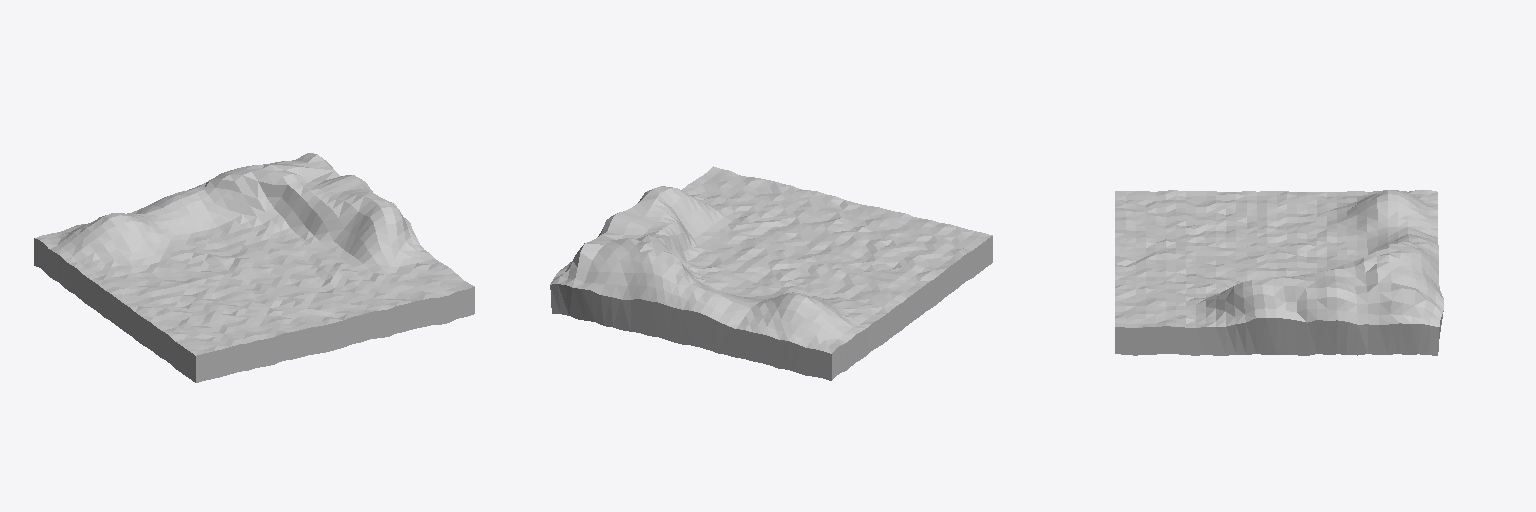
Rendered from floor.obj.
3 views of the same model, side by side, from view 1: azimuth 30°, elevation 25°; view 2: azimuth 150°, elevation 25°; view 3: azimuth 270°, elevation 25° (orthographic).
Parts seen in each view (by area): view 1: Plane_Plane.001; view 2: Plane_Plane.001; view 3: Plane_Plane.001.
Boxes of the visible parts, x1,y1,x2,y2 form: Plane_Plane.001: [34, 153, 474, 382]; Plane_Plane.001: [550, 166, 992, 380]; Plane_Plane.001: [1115, 190, 1443, 355].
Size of the model in its own units: 55.54 by 12.92 by 55.38.